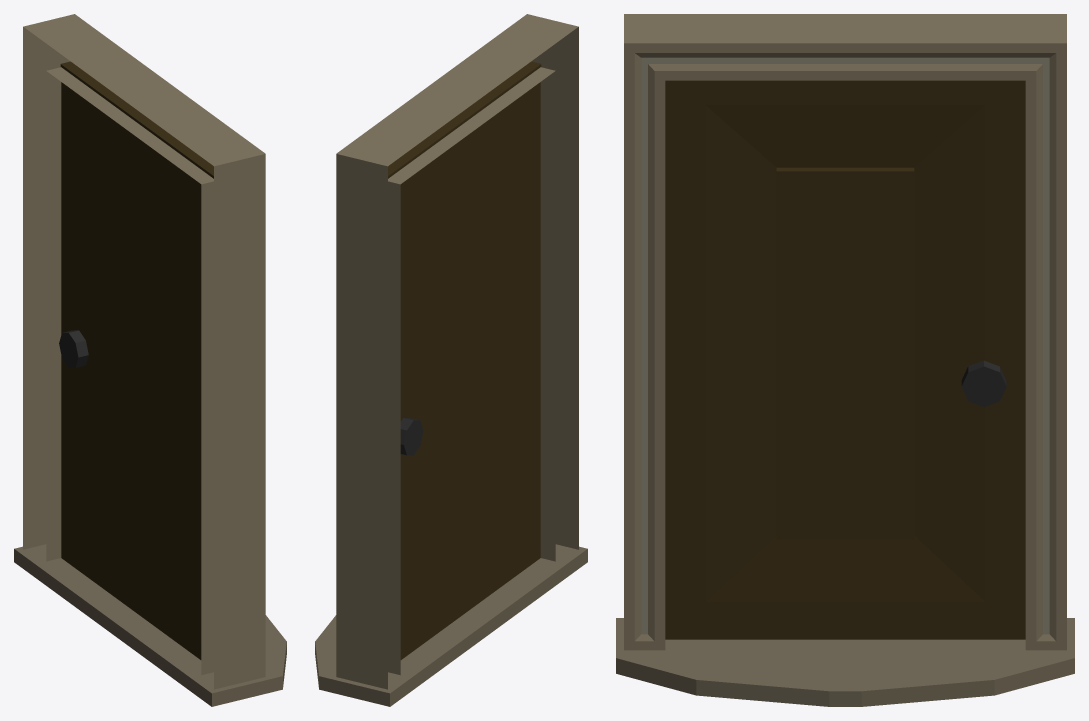
The model's file is Door_2.fbx.
3 views of the same model, side by side, from view 1: azimuth 30°, elevation 25°; view 2: azimuth 150°, elevation 25°; view 3: azimuth 270°, elevation 25° (orthographic). The views are drawn at different scales.
Parts seen in each view (by area): view 1: Door_2; view 2: Door_2; view 3: Door_2.
Boxes of the visible parts, x1,y1,x2,y2 form: Door_2: (14, 14, 286, 706); Door_2: (315, 14, 587, 706); Door_2: (616, 14, 1074, 706).
Bounding box in the file's own units: 40.16 × 159 × 106.
